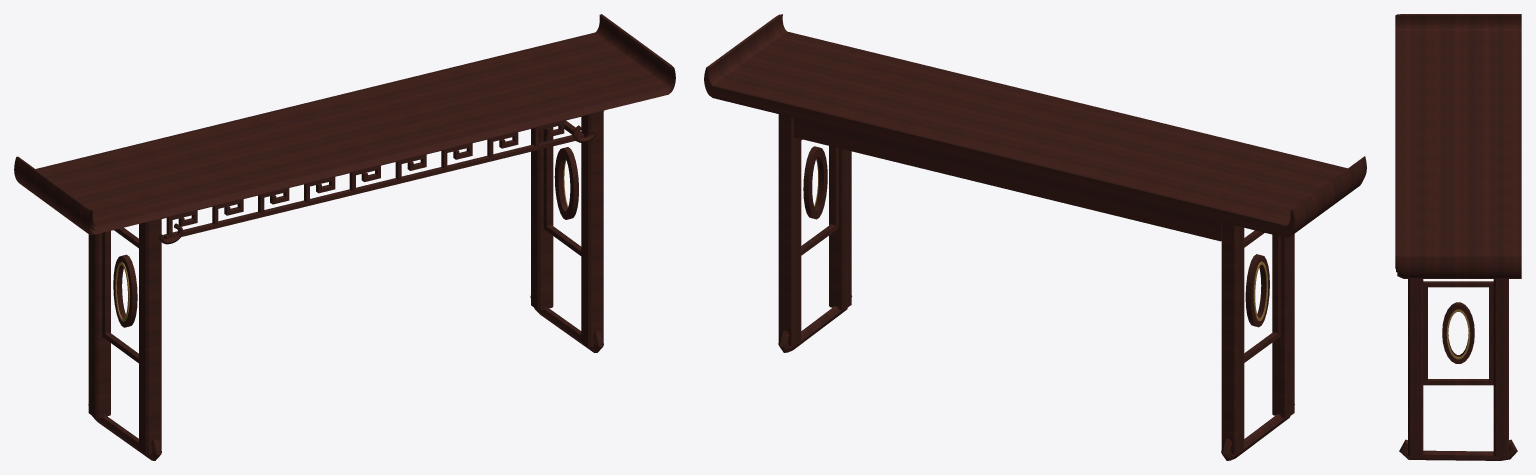
File: tiaoan-v1.glb
3 renders of one model, left to right at view 1: azimuth 30°, elevation 25°; view 2: azimuth 150°, elevation 25°; view 3: azimuth 270°, elevation 25°, orthographic. The views are drawn at different scales.
Visible parts, largest first — view 1: tiaoan; view 2: tiaoan; view 3: tiaoan, tiaoan_gold.
Boxes of the visible parts, bbox=[...] form: tiaoan: bbox=[14, 14, 675, 460]; tiaoan: bbox=[704, 14, 1366, 460]; tiaoan: bbox=[1395, 14, 1521, 460]; tiaoan_gold: bbox=[1446, 309, 1470, 359].
Bounding box in the file's own units: 2.06 × 0.9159 × 0.45.
2 materials, 1 textured.
